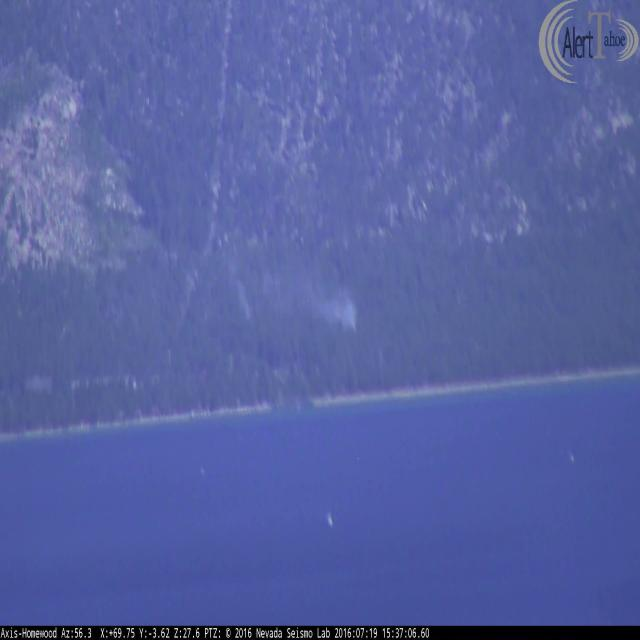smoke: (325, 290, 362, 337)
